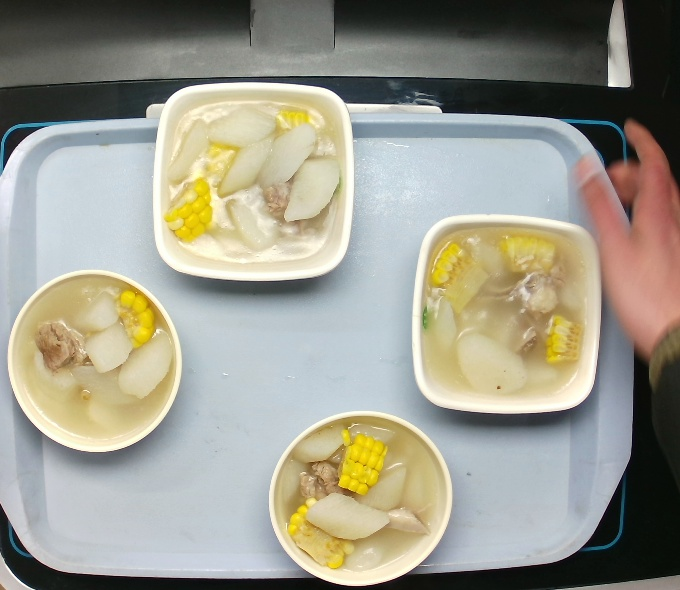wcq-ShanYaoYuMiTang: (158, 82, 355, 271), (257, 414, 458, 590), (5, 269, 186, 452), (416, 226, 594, 407)
